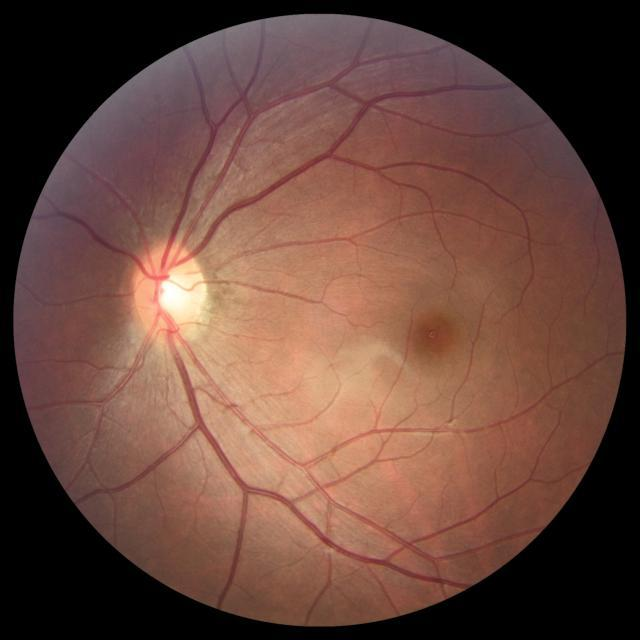OC: (153, 268, 190, 315)
OD: (132, 240, 210, 348)
